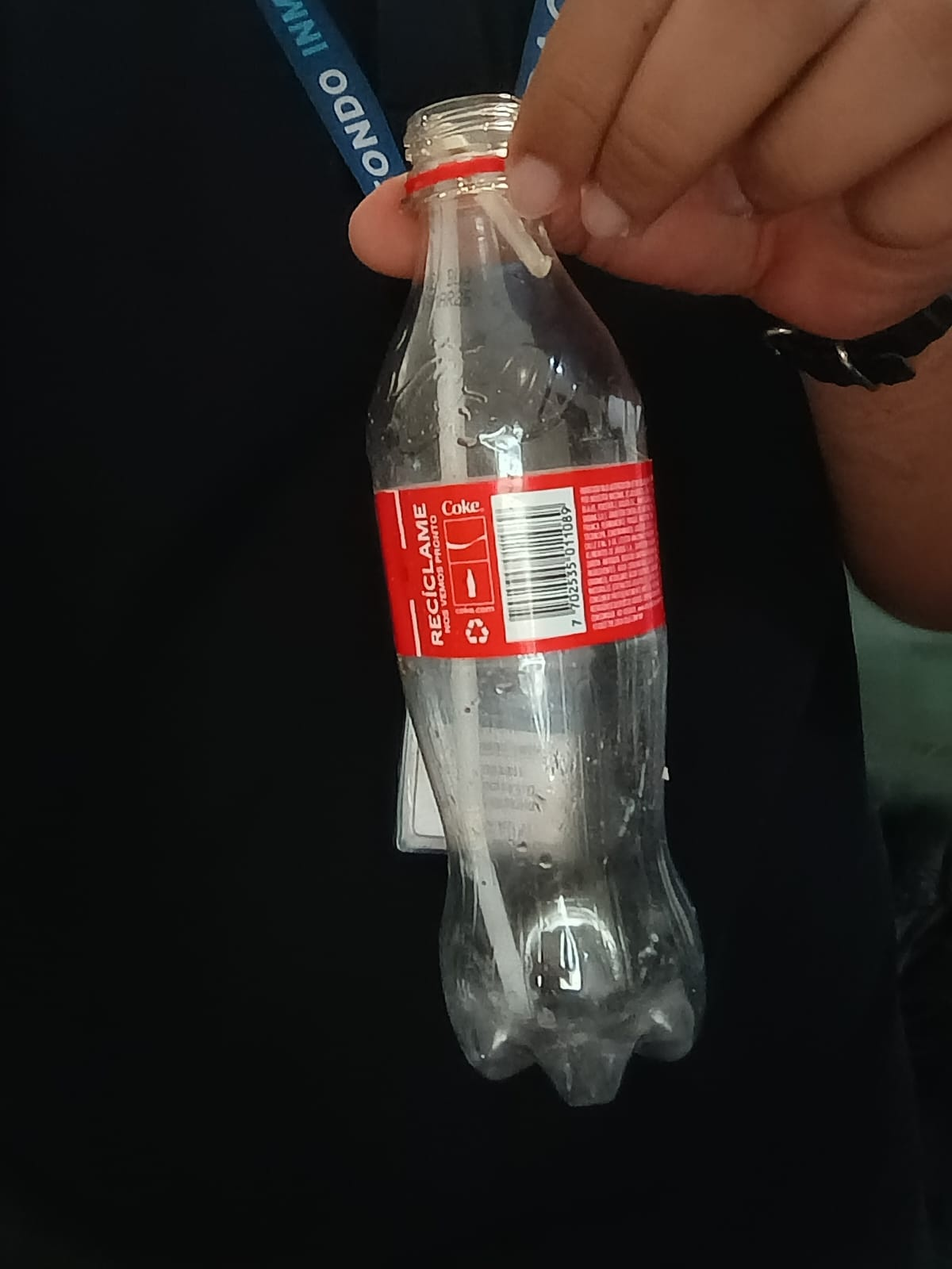Plastico: (368, 92, 712, 1104)
